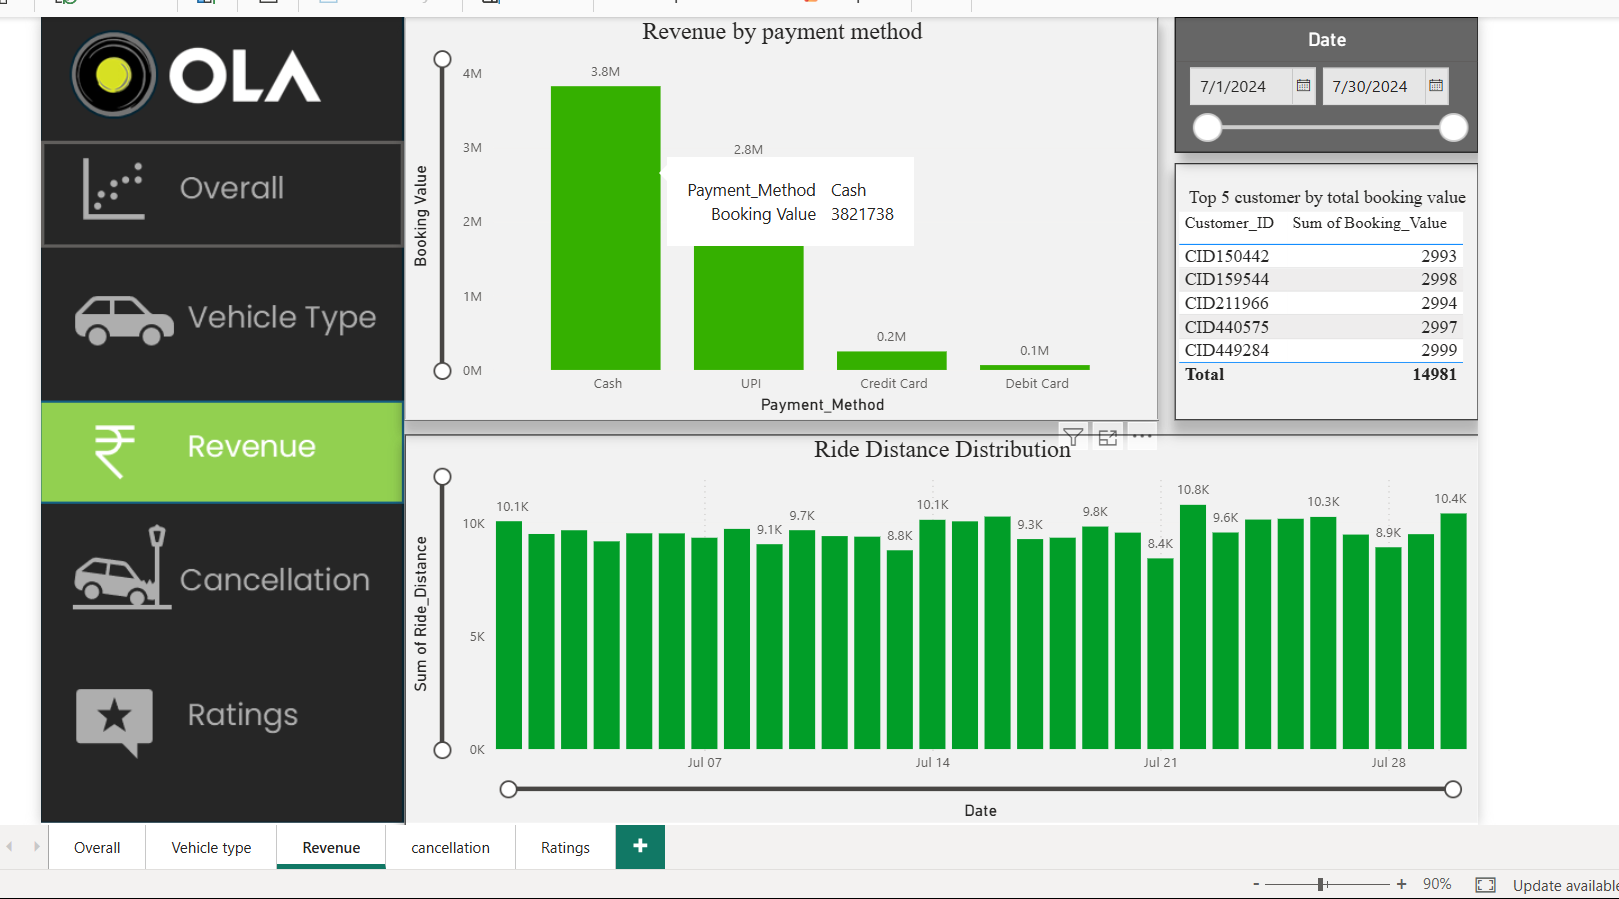

What the dashboard file says about the page in this screenshot:
{"tool":"powerbi","page":{"name":"Revenue","canvas":[1280,720],"ordinal":2},"visuals":[{"type":"actionButton","box":[0,229.2,323.3,95.3],"z":0},{"type":"actionButton","box":[0,109.8,323.3,95.3],"z":1000},{"type":"actionButton","box":[0,220.8,323.3,95.3],"z":2000},{"type":"actionButton","box":[0,458.4,323.3,95.3],"z":3000},{"type":"actionButton","box":[0,571.9,323.3,95.3],"z":4000},{"type":"columnChart","title":"Revenue by payment method","fields":{"Y":["Sum(Bookings-20000-Rows xlsx - July.Booking_Value)"],"Category":["Bookings-20000-Rows xlsx - July.Payment_Method"]},"box":[323.8,0,671,359.5],"z":5000},{"type":"columnChart","title":"Ride Distance Distribution","fields":{"Y":["Sum(Bookings-20000-Rows xlsx - July.Ride_Distance)"],"Category":["Bookings-20000-Rows xlsx - July.Date"]},"box":[323.8,371.9,956.4,348.5],"z":6000},{"type":"slicer","title":"Date","fields":{"Values":["Bookings-20000-Rows xlsx - July.Date"]},"box":[1010,0,270.3,120.8],"z":7000},{"type":"tableEx","title":"Top 5 customer by total booking value","fields":{"Values":["Bookings-20000-Rows xlsx - July.Customer_ID","Sum(Bookings-20000-Rows xlsx - July.Booking_Value)"]},"box":[1010,130.4,270.3,229.2],"z":8000}]}

Visuals, with their boxes on the page's 1280x720 design canvas (x1, y1, x2, y2). These are canvas units, not pixel positions in the 1619x899 screenshot, which may show the page scaled, cropped or inside an application window:
actionButton: 0 229 323 324
actionButton: 0 110 323 205
actionButton: 0 221 323 316
actionButton: 0 458 323 554
actionButton: 0 572 323 667
"Revenue by payment method" columnChart: 324 0 995 360
"Ride Distance Distribution" columnChart: 324 372 1280 720
"Date" slicer: 1010 0 1280 121
"Top 5 customer by total booking value" tableEx: 1010 130 1280 360
